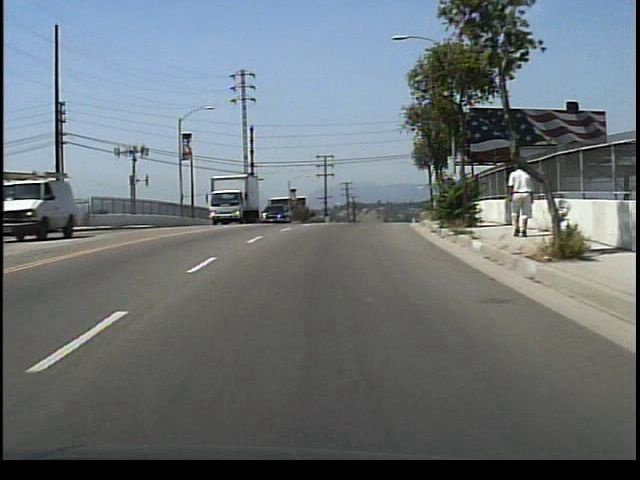person: (506, 169, 537, 241)
